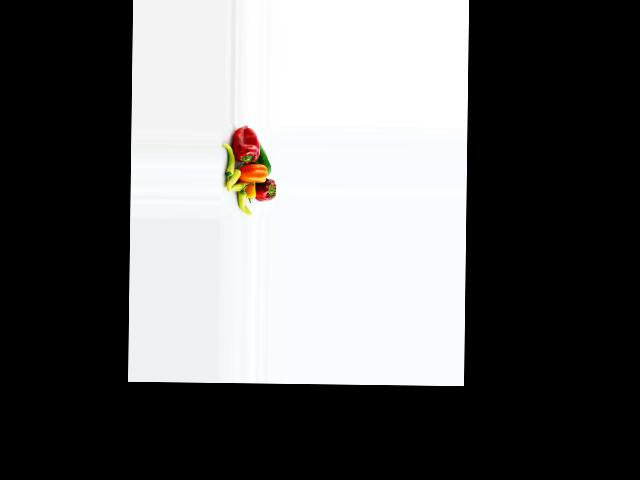bell_pepper: (222, 140, 234, 182)
